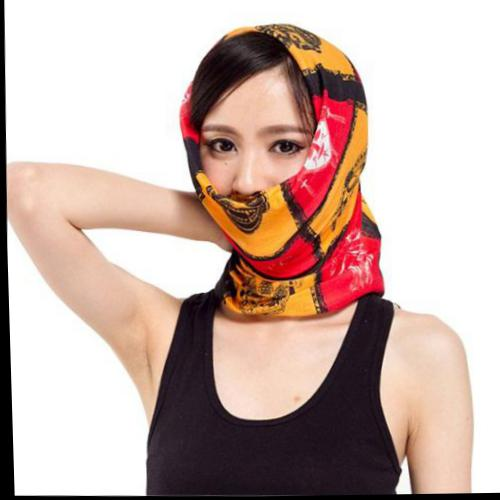WRONG: (188, 110, 338, 255)
